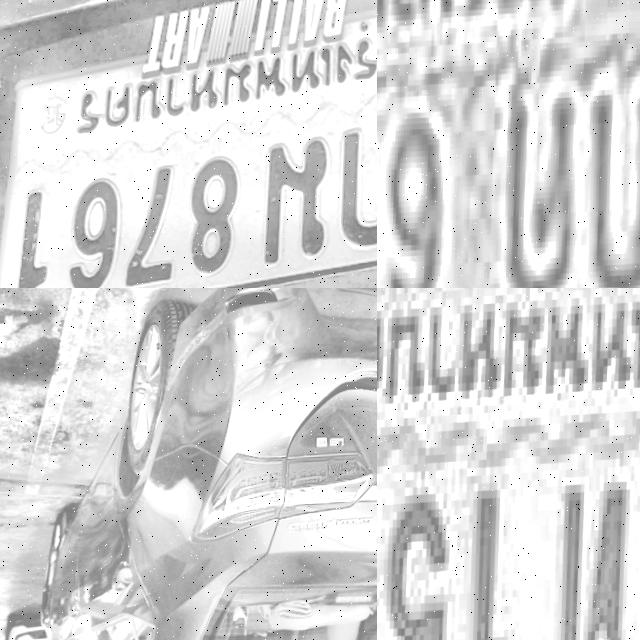license-plate: (0, 0, 377, 288), (377, 288, 640, 640), (377, 0, 640, 288)
